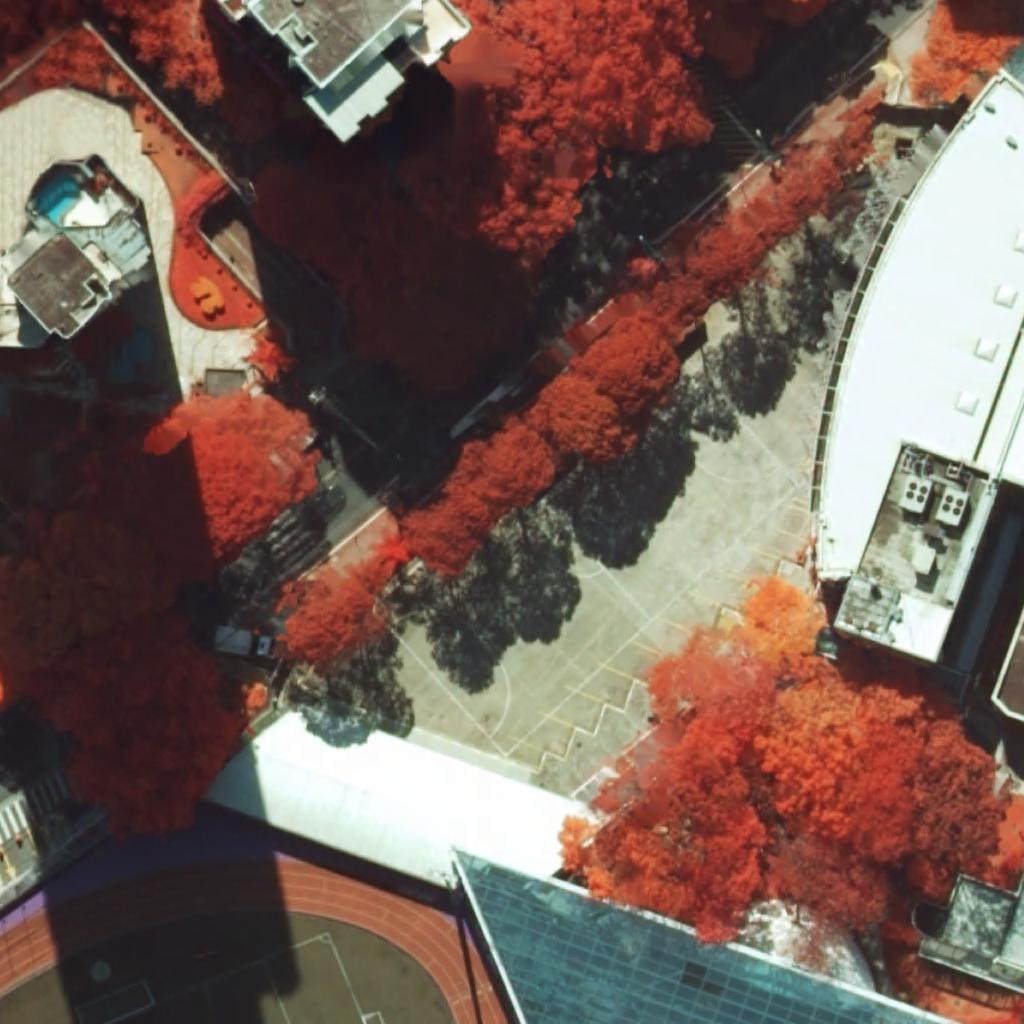pool: (37, 175, 80, 226)
